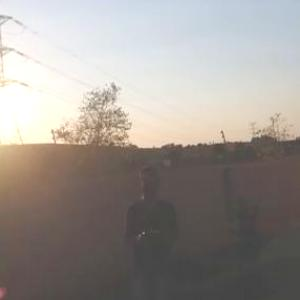follow: (122, 160, 186, 299)
